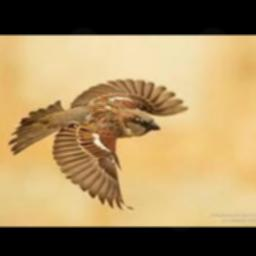Sparrow: (8, 79, 189, 210)
